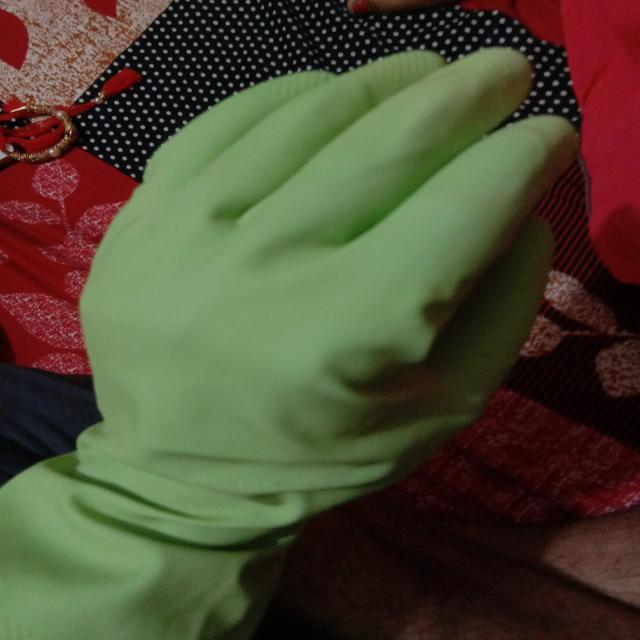glove_hand: (0, 38, 586, 637)
